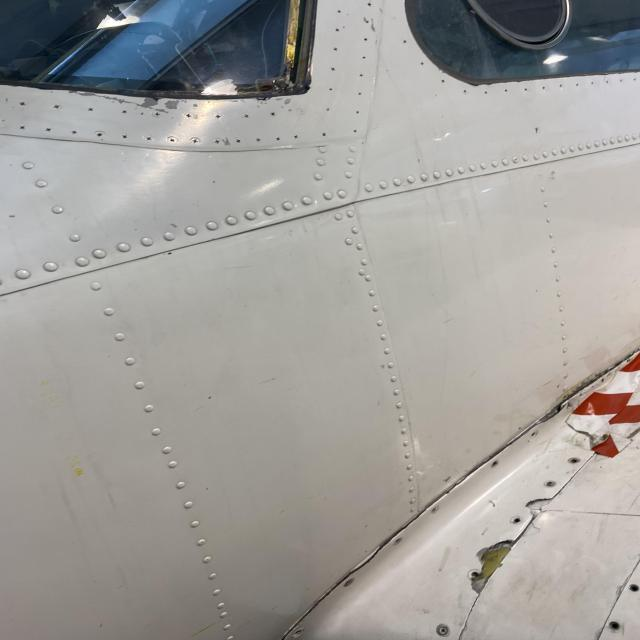Crack: (539, 341, 640, 420), (314, 532, 390, 594), (521, 492, 563, 516)
Missing_Fastener: (609, 620, 621, 635), (567, 456, 581, 467), (292, 628, 306, 638), (627, 582, 640, 592), (392, 538, 406, 546), (512, 516, 524, 525), (490, 460, 500, 467), (529, 432, 540, 438)
